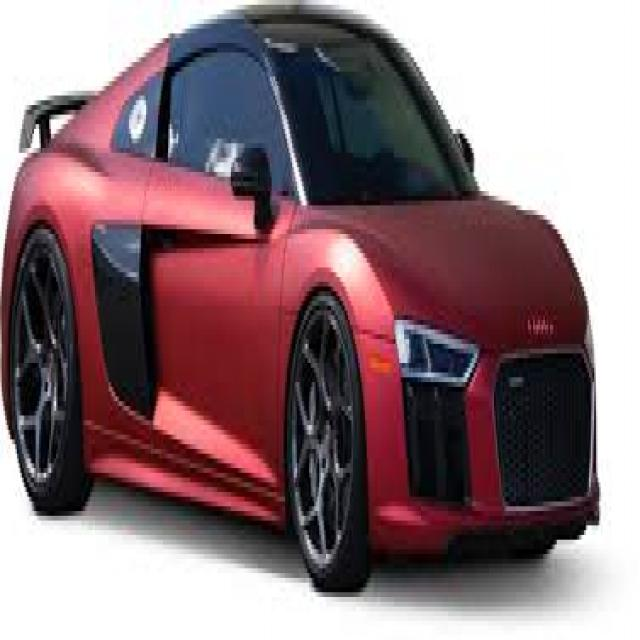Car: (0, 0, 596, 587)
